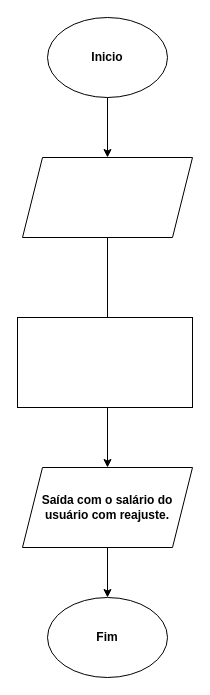
Some shapes in this 210 by 695 pixel diagram are drawn without their labels. The centre of each missing label's shape, as x and y in pixels:
Calculo do salário do usuário acrescido de um aumento de 7%.: the point at 104,362
Entrada do valor do salário do usuário.: the point at 107,197
